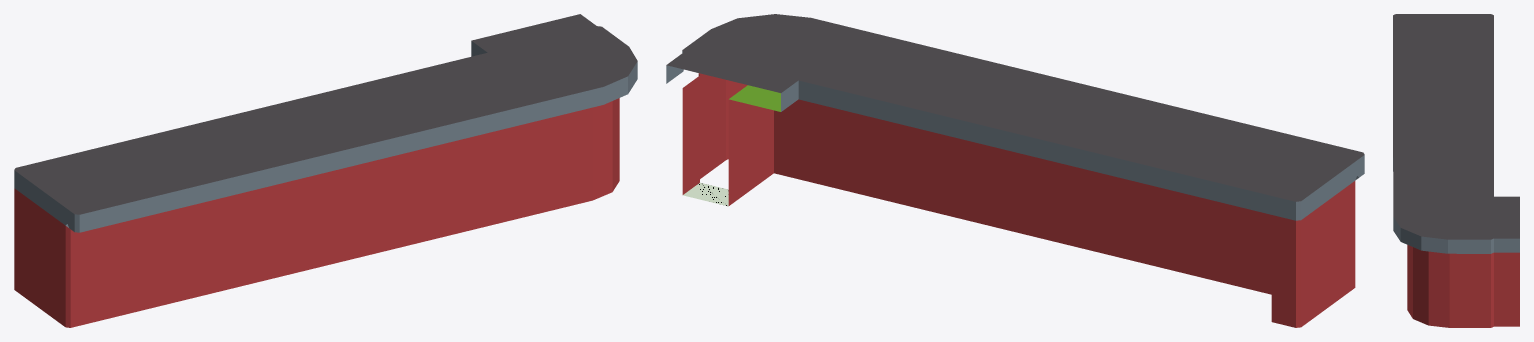
File: counter.glb
3 views of the same model, side by side, from view 1: azimuth 30°, elevation 25°; view 2: azimuth 150°, elevation 25°; view 3: azimuth 270°, elevation 25° (orthographic). The views are drawn at different scales.
Visible parts, largest first — view 1: Counter; view 2: Counter; view 3: Counter.
Boxes of the visible parts, <box> form: Counter: <box>14,14,637,327</box>; Counter: <box>666,14,1364,327</box>; Counter: <box>1393,14,1519,327</box>.
Bounding box in the file's own units: 6.16 × 1.2 × 1.46.
Materials: 1 (1 with a texture image).
